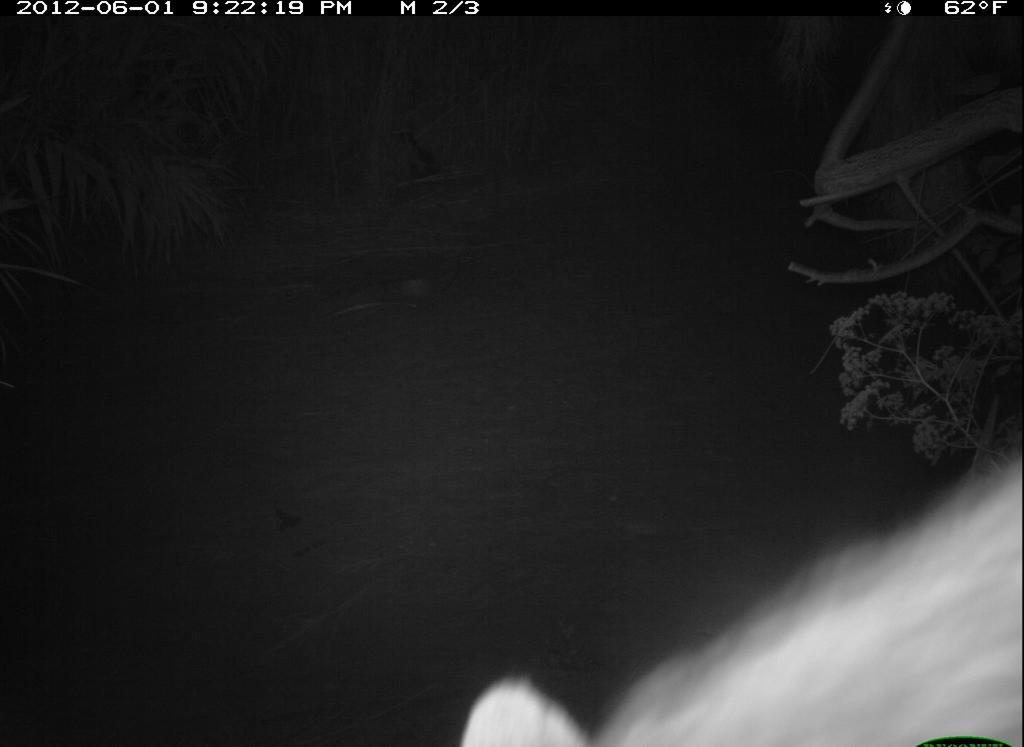raccoon: (460, 443, 1021, 747)
